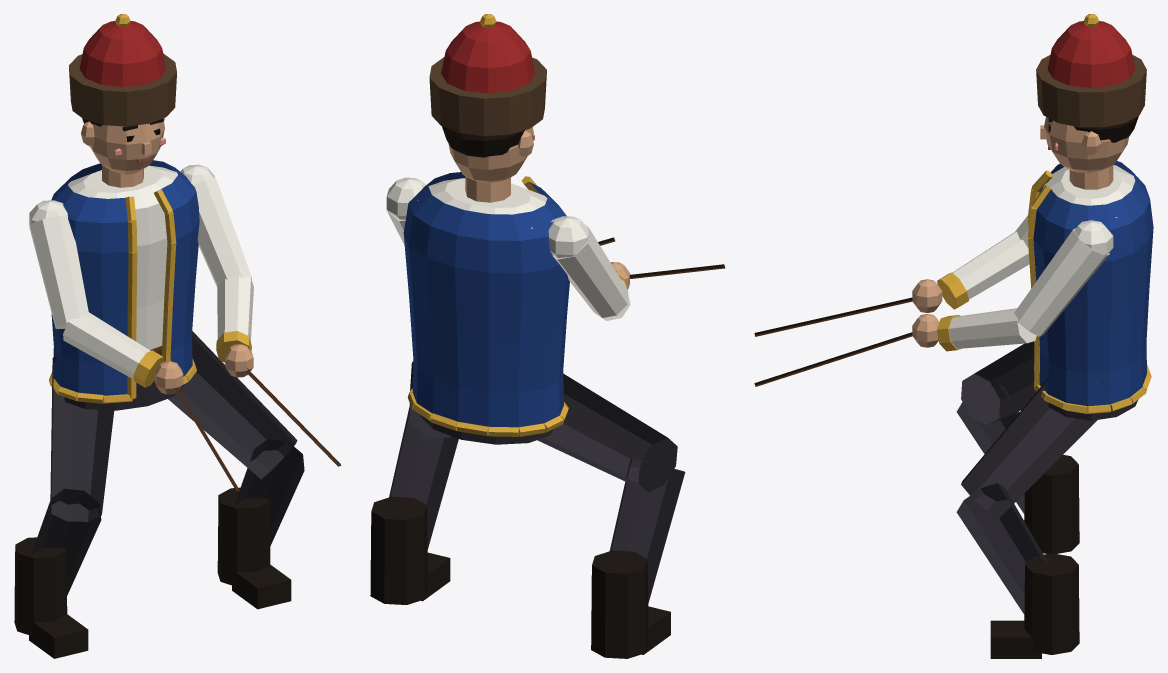
The model's file is Rider_Blue.obj.
3 renders of one model, left to right at view 1: azimuth 30°, elevation 25°; view 2: azimuth 150°, elevation 25°; view 3: azimuth 270°, elevation 25°, orthographic. The views are drawn at different scales.
Visible parts, largest first — view 1: Rider_Blue; view 2: Rider_Blue; view 3: Rider_Blue.
Part boxes in pixels (x1,y1,x2,y2): Rider_Blue: [14, 14, 341, 658]; Rider_Blue: [370, 14, 725, 658]; Rider_Blue: [754, 14, 1153, 658].
Size of the model in its own units: 0.74 by 1.63 by 1.01.
